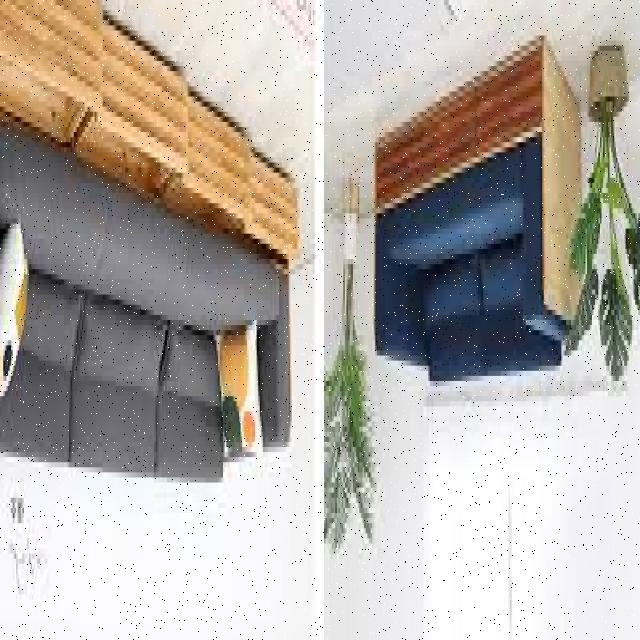Sofa: (0, 14, 308, 502), (360, 31, 594, 440)
